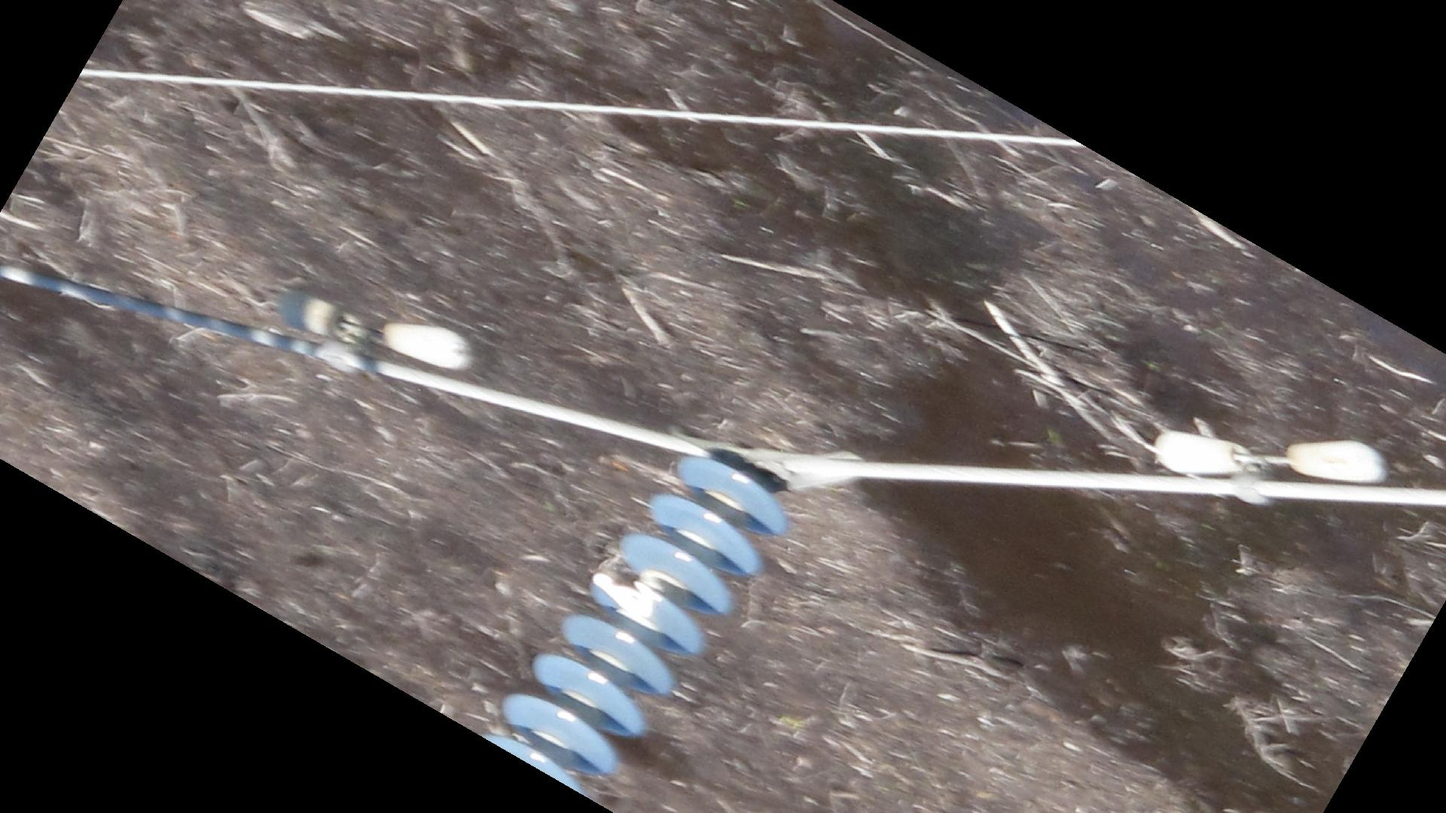insulator: (473, 448, 794, 796)
insulator_breakage: (585, 567, 670, 623)
